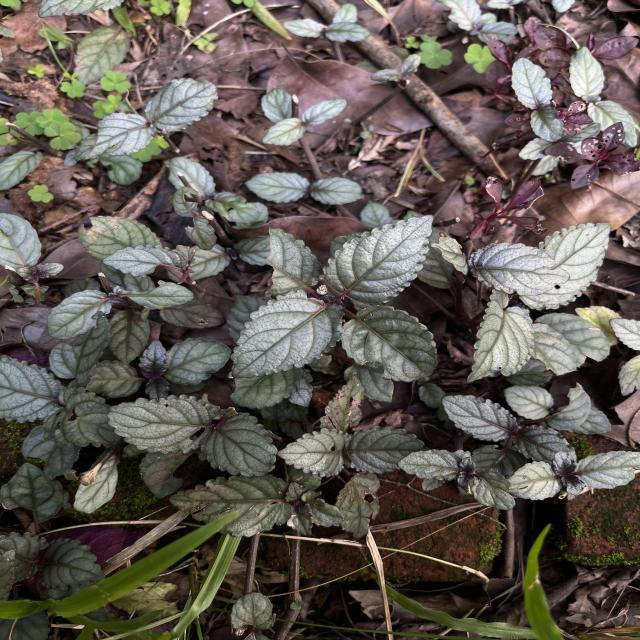Hemigraphis colorata: (316, 213, 434, 306), (228, 288, 347, 379), (518, 221, 612, 312), (167, 472, 296, 538), (340, 304, 440, 382), (104, 392, 214, 456), (464, 288, 536, 384), (469, 240, 571, 296), (198, 410, 280, 478), (142, 75, 220, 134), (0, 355, 65, 425), (265, 225, 324, 298), (72, 111, 156, 162), (276, 427, 353, 479), (440, 392, 520, 442), (38, 535, 108, 592), (350, 424, 426, 475), (46, 288, 114, 342), (162, 336, 232, 386), (101, 242, 191, 279), (112, 277, 196, 310), (510, 424, 577, 464), (0, 211, 43, 271), (576, 450, 640, 490), (504, 460, 562, 502), (510, 56, 554, 110), (394, 447, 460, 482), (471, 464, 517, 511), (136, 338, 170, 378), (550, 448, 580, 476)
